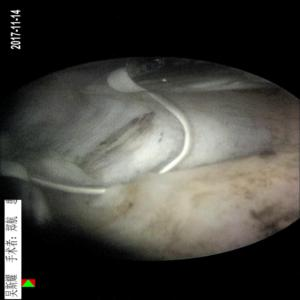film: (64, 109, 173, 173)
